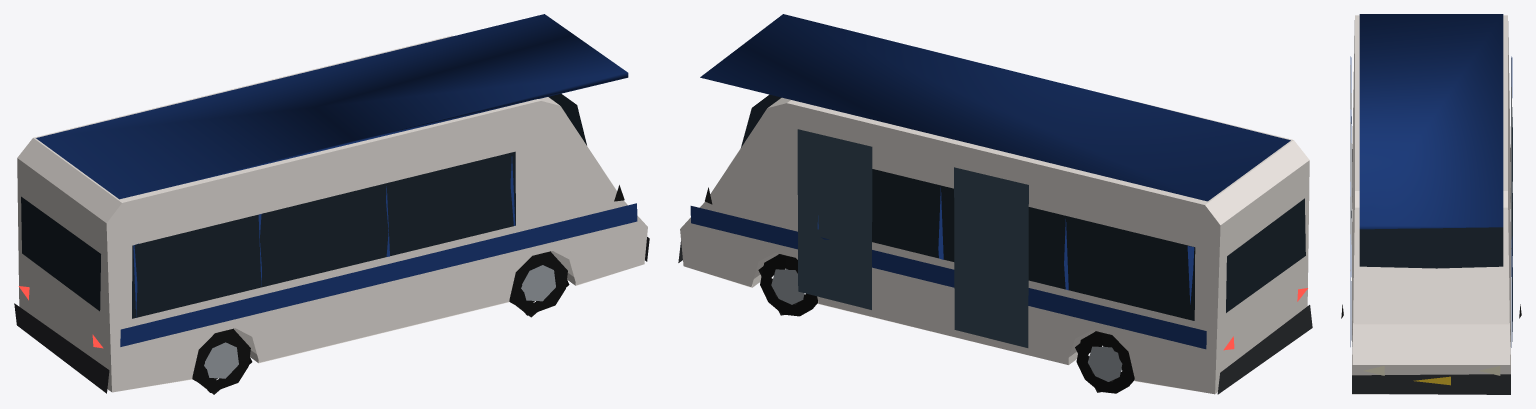
The model's file is mini_bus_lod1.glb.
3 views of the same model, side by side, from view 1: azimuth 30°, elevation 25°; view 2: azimuth 150°, elevation 25°; view 3: azimuth 270°, elevation 25° (orthographic). The views are drawn at different scales.
Visible parts, largest first — view 1: mini_bus_body, wheel_0r.001, wheel_1r.001; view 2: mini_bus_body, wheel_1l.001, wheel_0l.001; view 3: mini_bus_body.
Boxes of the visible parts, box(x1,y1,x2,y2) form: mini_bus_body: box(14, 14, 649, 393); wheel_0r.001: box(509, 251, 569, 317); wheel_1r.001: box(192, 328, 252, 394); mini_bus_body: box(678, 14, 1312, 394); wheel_1l.001: box(1075, 331, 1134, 393); wheel_0l.001: box(758, 254, 817, 316); mini_bus_body: box(1341, 14, 1521, 394).
Bounding box in the file's own units: 6.98 × 2.69 × 2.32.
2 materials, 1 textured.
